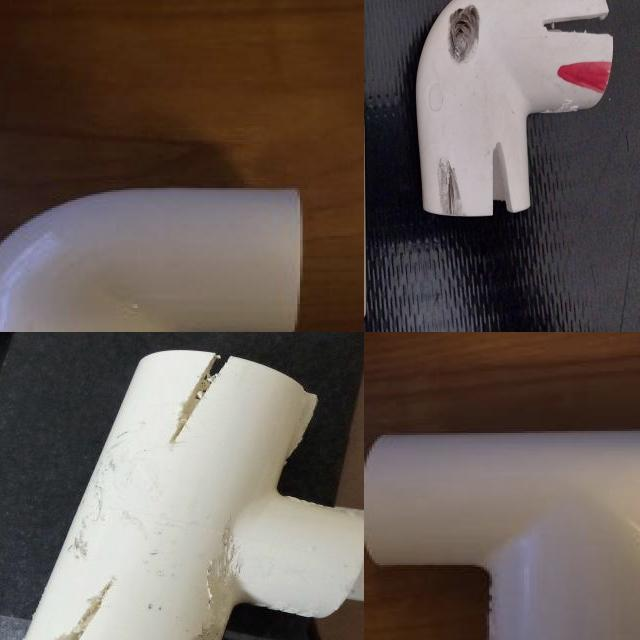Defective: (190, 529, 242, 640), (173, 357, 239, 444), (411, 217, 471, 280), (61, 578, 116, 640), (364, 257, 377, 330)
L Joint: (0, 189, 304, 332)
T Joint: (23, 350, 364, 640), (364, 430, 640, 640), (364, 89, 470, 332)
